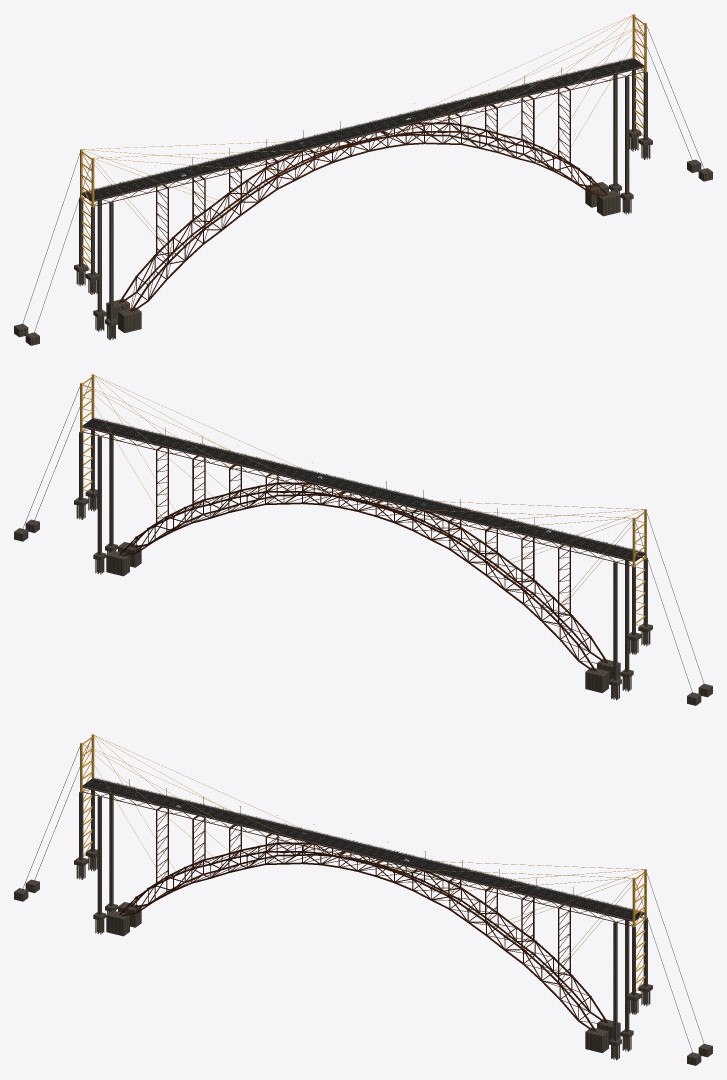
Rendered from arch.glb.
3 views of the same model, one above another, from view 1: azimuth 30°, elevation 25°; view 2: azimuth 150°, elevation 25°; view 3: azimuth 330°, elevation 25° (orthographic).
Parts seen in each view (by area): view 1: surface_asphalt_0_1, surface_asphalt_0_-1, edge_walk_-1_0, edge_walk_1_0, ApproachPier_20.0_-1, ApproachPier_578.16_-1, ApproachPier_578.16_1, ApproachPier_20.0_1, ArchSkewback_1_-1; view 2: surface_asphalt_0_-1, surface_asphalt_0_1, edge_walk_1_0, edge_walk_-1_0, ApproachPier_20.0_1, ApproachPier_578.16_1, ApproachPier_578.16_-1, ApproachPier_20.0_-1, ArchSkewback_1_1; view 3: surface_asphalt_0_1, surface_asphalt_0_-1, edge_walk_-1_0, edge_walk_1_0, ApproachPier_20.0_-1, ApproachPier_578.16_-1, ApproachPier_20.0_1, ApproachPier_578.16_1, ArchSkewback_0_-1.
Part boxes in pixels (x1=…): surface_asphalt_0_1: x1=82, y1=58, x2=639, y2=196; surface_asphalt_0_-1: x1=88, y1=62, x2=643, y2=200; edge_walk_-1_0: x1=94, y1=66, x2=644, y2=201; edge_walk_1_0: x1=82, y1=58, x2=634, y2=193; ApproachPier_20.0_-1: x1=109, y1=202, x2=113, y2=320; ApproachPier_578.16_-1: x1=625, y1=76, x2=629, y2=194; ApproachPier_578.16_1: x1=613, y1=74, x2=617, y2=186; ApproachPier_20.0_1: x1=97, y1=200, x2=101, y2=312; ArchSkewback_1_-1: x1=597, y1=190, x2=620, y2=216; surface_asphalt_0_-1: x1=87, y1=418, x2=644, y2=556; surface_asphalt_0_1: x1=83, y1=422, x2=639, y2=560; edge_walk_1_0: x1=82, y1=426, x2=632, y2=561; edge_walk_-1_0: x1=92, y1=418, x2=644, y2=553; ApproachPier_20.0_1: x1=613, y1=562, x2=617, y2=680; ApproachPier_578.16_1: x1=97, y1=436, x2=101, y2=554; ApproachPier_578.16_-1: x1=109, y1=434, x2=113, y2=546; ApproachPier_20.0_-1: x1=625, y1=560, x2=629, y2=672; ArchSkewback_1_1: x1=106, y1=550, x2=129, y2=576; surface_asphalt_0_1: x1=87, y1=778, x2=644, y2=916; surface_asphalt_0_-1: x1=83, y1=782, x2=638, y2=920; edge_walk_-1_0: x1=82, y1=786, x2=632, y2=921; edge_walk_1_0: x1=92, y1=778, x2=644, y2=913; ApproachPier_20.0_-1: x1=97, y1=796, x2=101, y2=914; ApproachPier_578.16_-1: x1=613, y1=922, x2=617, y2=1040; ApproachPier_20.0_1: x1=109, y1=794, x2=113, y2=906; ApproachPier_578.16_1: x1=625, y1=920, x2=629, y2=1032; ArchSkewback_0_-1: x1=106, y1=910, x2=129, y2=936.
Size of the model in its own units: 738 by 191 by 33.95.
10 materials, 3 textured.
